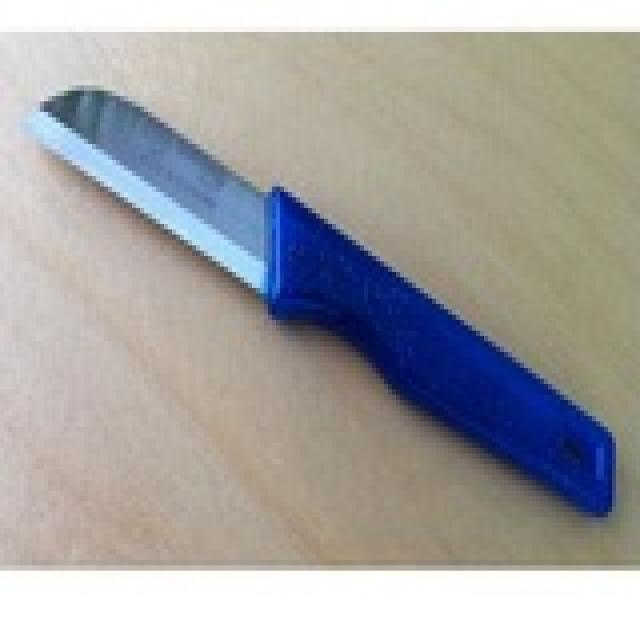Knife: (30, 69, 621, 519)
